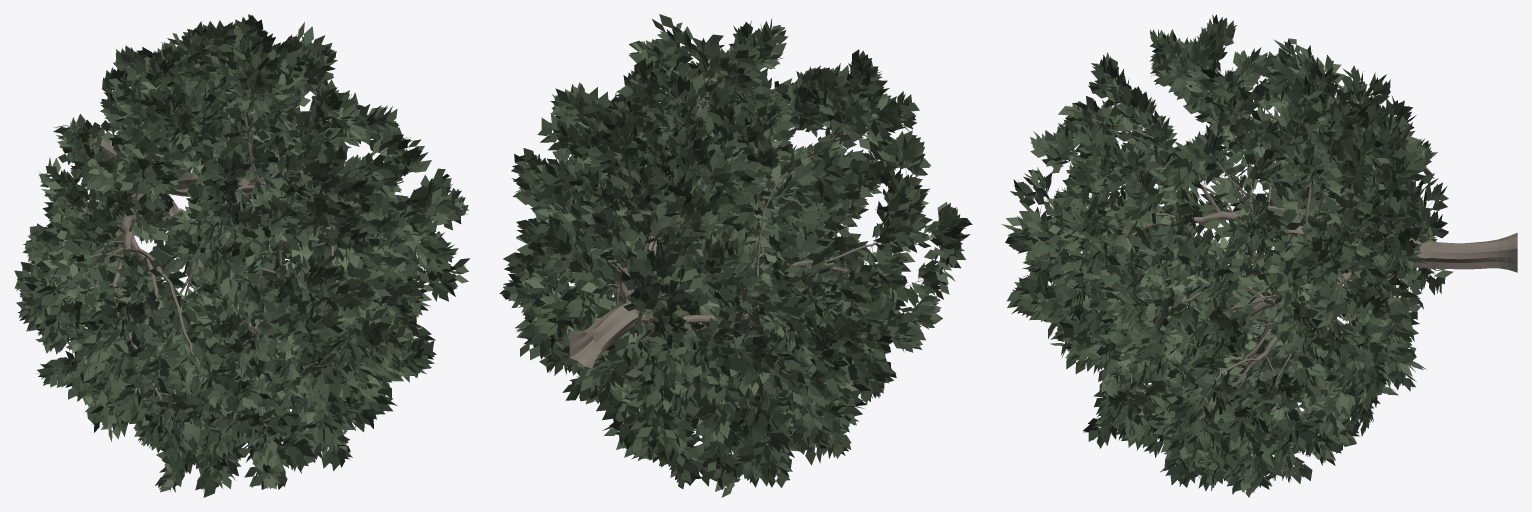
The model's file is tree_near_00.obj.
3 views of the same model, side by side, from view 1: azimuth 30°, elevation 25°; view 2: azimuth 150°, elevation 25°; view 3: azimuth 270°, elevation 25° (orthographic).
Visible parts, largest first — view 1: tree_near_00; view 2: tree_near_00; view 3: tree_near_00.
Boxes of the visible parts, x1,y1,x2,y2 form: tree_near_00: [14, 14, 469, 497]; tree_near_00: [499, 14, 972, 497]; tree_near_00: [1001, 14, 1517, 497].
Size of the model in its own units: 0.9059 by 0.9378 by 0.9961.
Materials: 1 (1 with a texture image).
